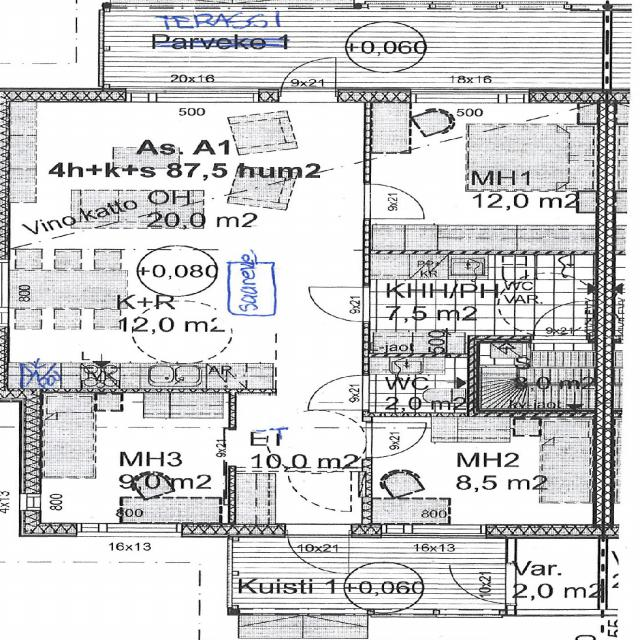door: (287, 524, 348, 576), (444, 564, 517, 603), (280, 52, 335, 102), (533, 301, 586, 342), (309, 376, 371, 410), (363, 423, 425, 457), (310, 288, 371, 322), (363, 184, 423, 218)
